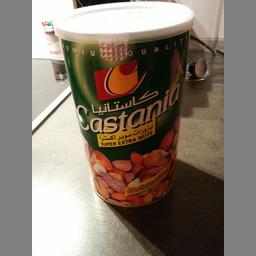nuts: (54, 0, 194, 208)
